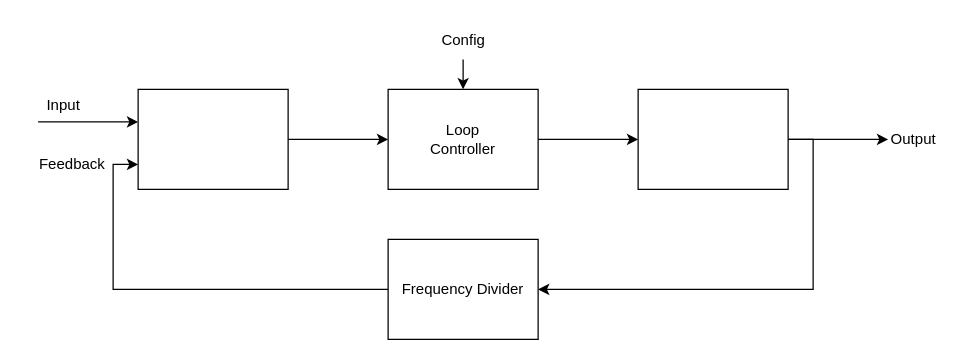
Some shapes in this 971 by 361 pixel diagram are drawn without their labels. The centre of each missing label's shape, as x and y in pixels:
Digitally Controlled Oscillator: the point at 712,138
Phase Frequency Detector: the point at 212,138
